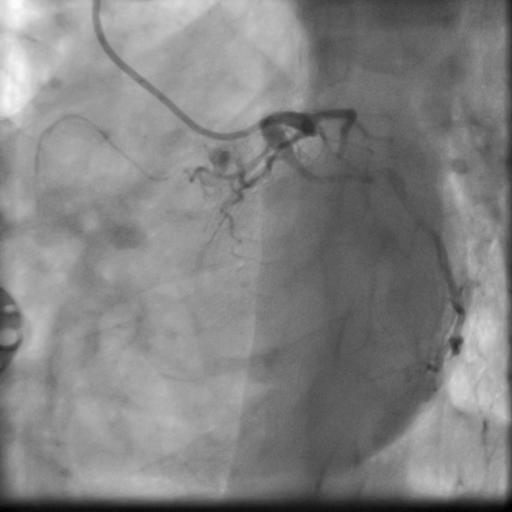Stenosis: (404, 206, 436, 236)
